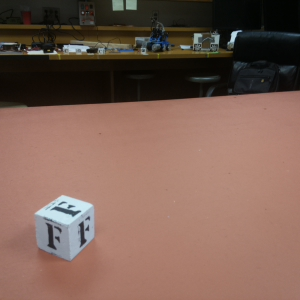blockF: (34, 192, 94, 261)
